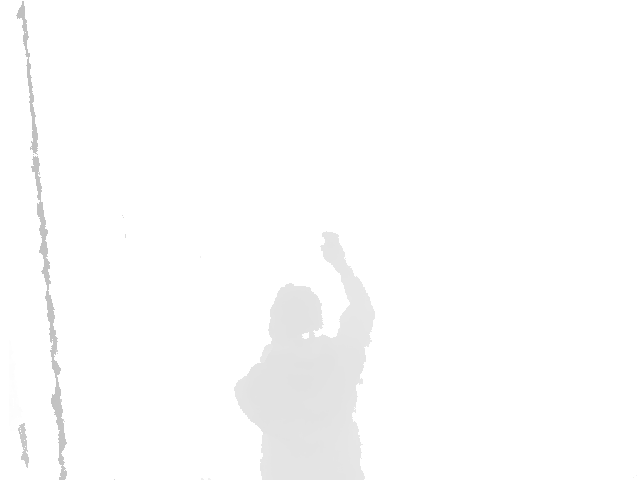hand: (320, 231, 346, 267)
head: (268, 283, 324, 349)
person: (232, 231, 376, 480)
